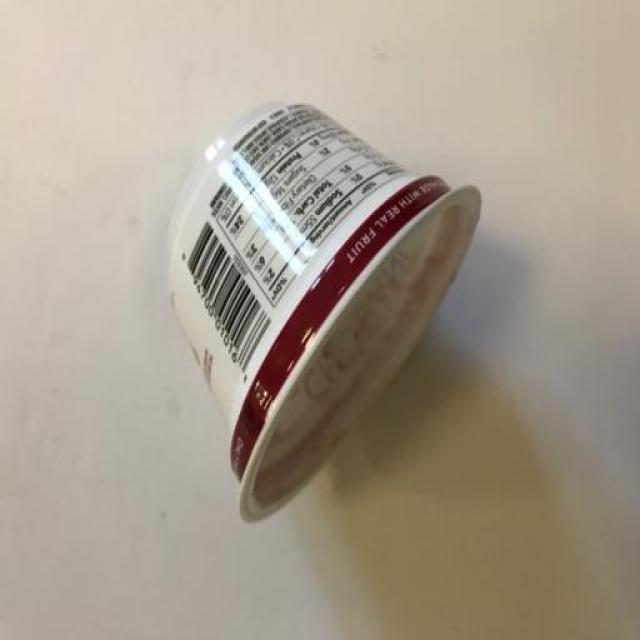plastic: (116, 44, 557, 570)
